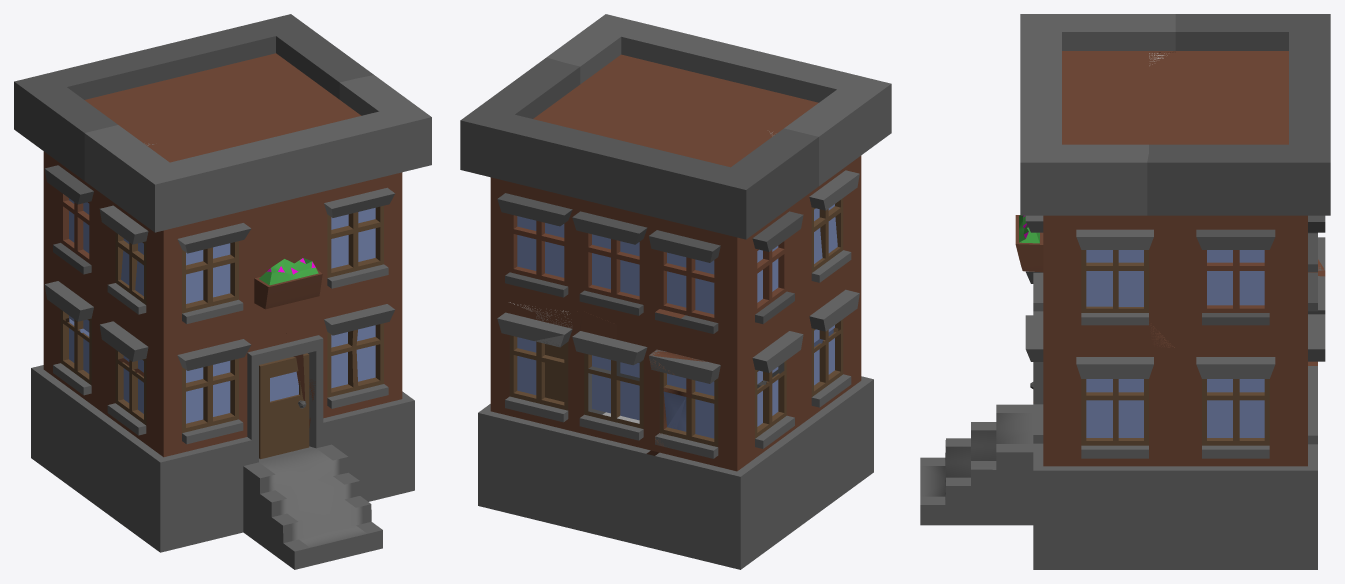
The model's file is Final Shattered Residential.fbx.
3 renders of one model, left to right at view 1: azimuth 30°, elevation 25°; view 2: azimuth 150°, elevation 25°; view 3: azimuth 270°, elevation 25°, orthographic. The views are drawn at different scales.
Parts seen in each view (by area): view 1: polySurface13, polySurface15, polySurface17, polySurface16, polySurface12; view 2: polySurface15, polySurface13, polySurface12, polySurface16, polySurface17; view 3: polySurface12, polySurface15, polySurface17, polySurface13, polySurface16.
Boxes of the visible parts, x1=… form: polySurface13: x1=31, y1=252, x2=382, y2=569; polySurface15: x1=14, y1=14, x2=373, y2=297; polySurface17: x1=207, y1=75, x2=431, y2=332; polySurface16: x1=84, y1=125, x2=262, y2=386; polySurface12: x1=286, y1=289, x2=414, y2=500; polySurface15: x1=460, y1=57, x2=818, y2=349; polySurface13: x1=624, y1=272, x2=873, y2=569; polySurface12: x1=478, y1=296, x2=717, y2=541; polySurface16: x1=718, y1=56, x2=891, y2=307; polySurface17: x1=547, y1=14, x2=779, y2=117; polySurface12: x1=1025, y1=240, x2=1325, y2=569; polySurface15: x1=1147, y1=14, x2=1330, y2=351; polySurface17: x1=1015, y1=72, x2=1153, y2=349; polySurface13: x1=920, y1=237, x2=1325, y2=525; polySurface16: x1=1020, y1=14, x2=1175, y2=91.
Bounding box in the file's own units: 673 × 872 × 785.
